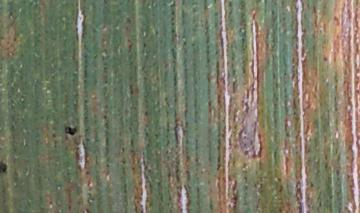tarspot: (65, 126, 77, 136), (1, 162, 8, 173)
